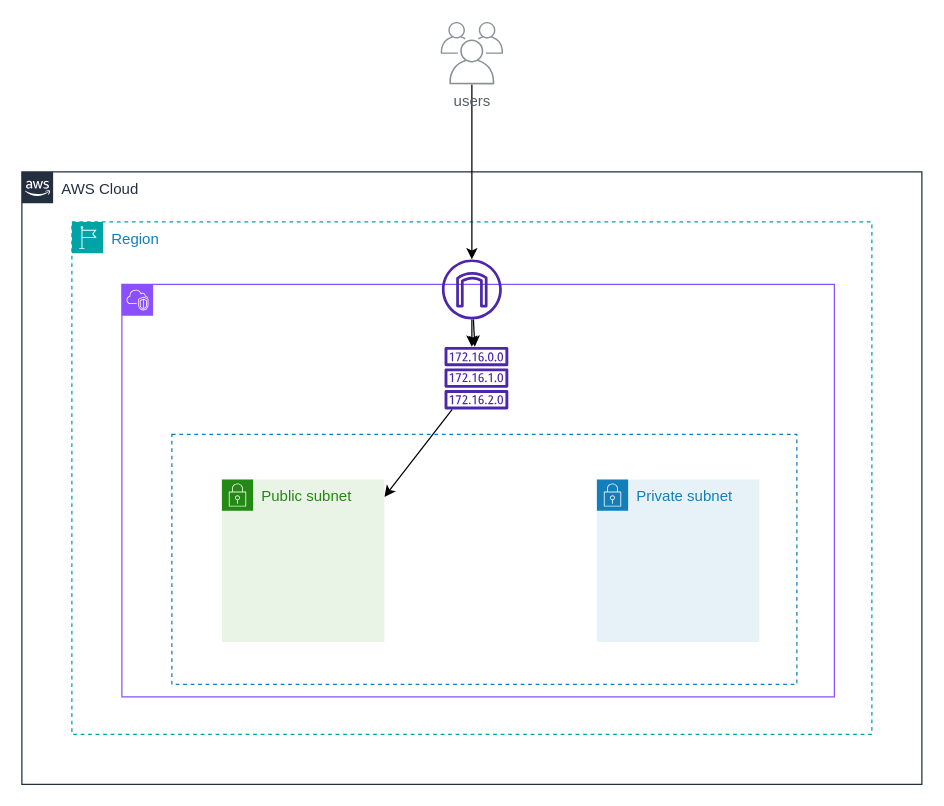
The diagram is 944 pixels wide and 806 high, and some of its shapes have lost their labels. Each missing label, with the box of its shape:
Availability Zone（ap-northeast-1a）: (171, 433, 797, 684)
VPC: (121, 283, 834, 697)
